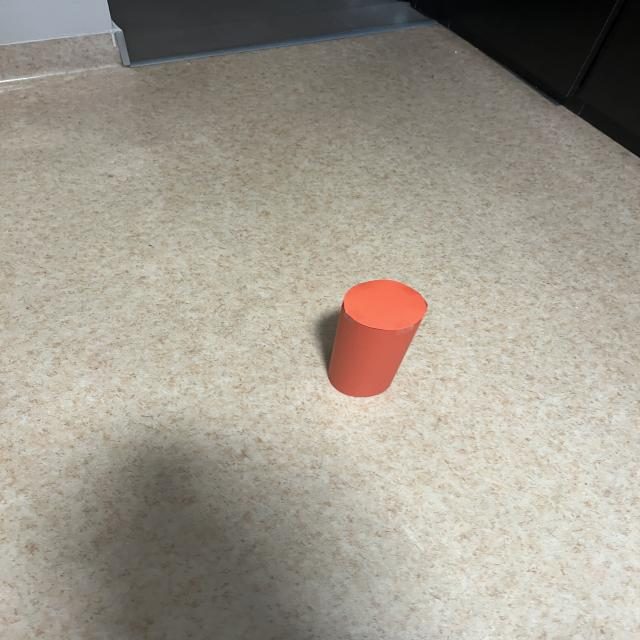przeszkoda: (328, 280, 427, 397)
